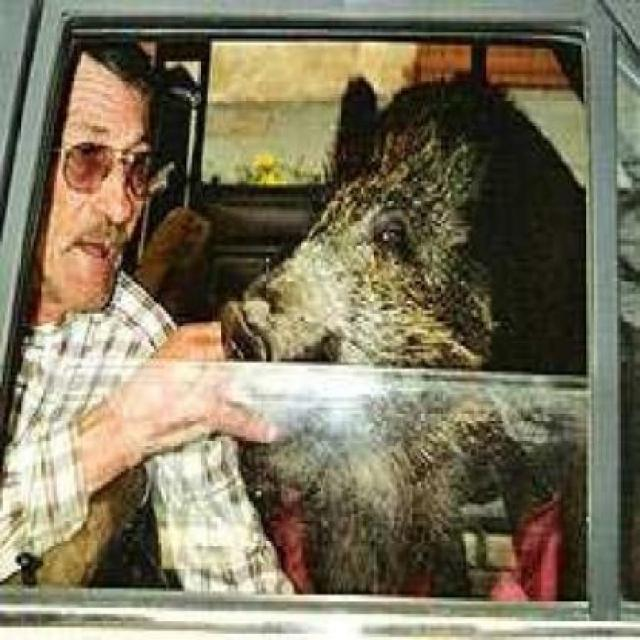Boar: (231, 77, 629, 575)
